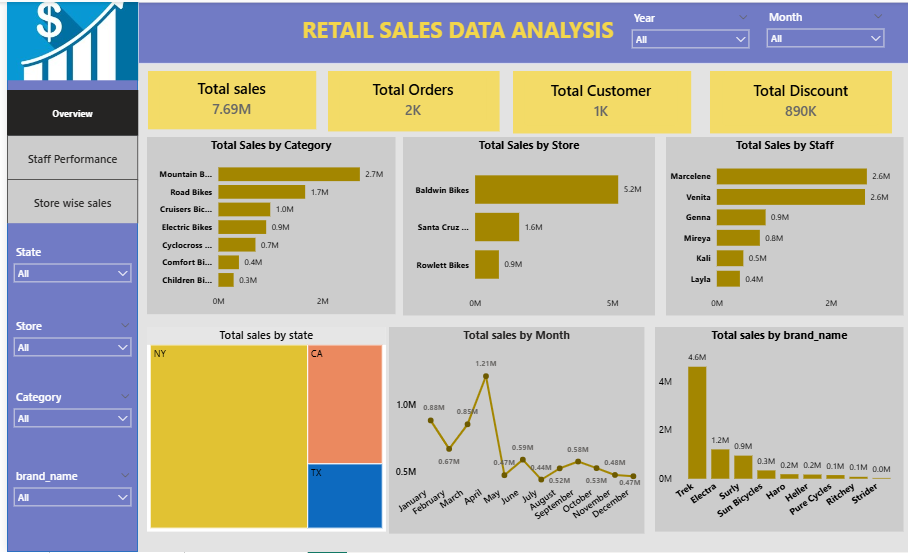

What the dashboard file says about the page in this screenshot:
{"tool":"powerbi","page":{"name":"Overview","canvas":[1318,801],"ordinal":0},"visuals":[{"type":"shape","box":[0,0,190.6,801],"z":0},{"type":"shape","box":[190.6,0,1127.8,89.7],"z":0,"group":"g1"},{"type":"shape","box":[205.5,100.9,245.1,84.9],"z":0,"group":"g2"},{"type":"shape","box":[466.9,100.9,249.9,88.1],"z":0,"group":"g5"},{"type":"shape","box":[737.2,100.9,259.5,91.3],"z":0,"group":"g3"},{"type":"shape","box":[1024.3,100.9,265.2,90.9],"z":0,"group":"g4"},{"type":"group","id":"g1","title":"Group 1","box":[190.6,0,1127.8,89.7],"z":1000},{"type":"textbox","box":[364.5,12.8,585.4,65.9],"z":1000,"group":"g1"},{"type":"cardVisual","fields":{"Data":["public brands.Total sales"]},"box":[217.1,100.9,220.3,78.9],"z":1000,"group":"g2"},{"type":"cardVisual","fields":{"Data":["public brands.Total Orders"]},"box":[478.7,100.9,224.6,81.9],"z":1000,"group":"g5"},{"type":"cardVisual","fields":{"Data":["public brands.Customer Count"]},"box":[749.5,100.9,233.2,84.9],"z":1000,"group":"g3"},{"type":"cardVisual","fields":{"Data":["public brands.Total Discount"]},"box":[1036.8,100.9,238.3,84.5],"z":1000,"group":"g4"},{"type":"group","id":"g2","title":"Group 2","box":[205.5,100.9,245.1,84.9],"z":2000},{"type":"group","id":"g3","title":"Group 2","box":[737.2,100.9,259.5,91.3],"z":3000},{"type":"group","id":"g4","title":"Group 2","box":[1024.3,100.9,265.9,91.3],"z":4000},{"type":"group","id":"g5","title":"Group 2","box":[466.9,100.9,249.9,88.1],"z":5000},{"type":"barChart","title":"Total Sales by Category","fields":{"Y":["public brands.Total sales"],"Category":["public categories.category_name"]},"box":[203.5,197,362.1,257.9],"z":6000},{"type":"barChart","title":"Total Sales by Store","fields":{"Y":["public brands.Total sales"],"Category":["public stores.store_name"]},"box":[576.7,197,366.9,259.5],"z":7000},{"type":"barChart","title":"Total Sales by Staff","fields":{"Y":["public brands.Total sales"],"Category":["public staffs.first_name"]},"box":[959.6,197,346,259.5],"z":8000},{"type":"treemap","fields":{"Values":["public brands.Total sales"],"Group":["public customers.state"]},"box":[203.5,472.6,347.6,298],"z":9000},{"type":"lineChart","fields":{"Y":["public brands.Total sales"],"Category":["public orders.order_date.Variation.Date Hierarchy.Month"]},"box":[555.9,472.6,371.7,301.2],"z":10000},{"type":"clusteredColumnChart","fields":{"Category":["public brands.brand_name"],"Y":["public brands.Total sales"]},"box":[943.6,472.6,362.1,298],"z":11000},{"type":"slicer","fields":{"Values":["public orders.order_date.Variation.Date Hierarchy.Year"]},"box":[900.1,7.4,191.4,77.3],"z":12000},{"type":"slicer","fields":{"Values":["public orders.order_date.Variation.Date Hierarchy.Month"]},"box":[1097.1,5.5,191.4,79.2],"z":13000},{"type":"slicer","fields":{"Values":["public customers.state"]},"box":[0,347.9,191.4,79.2],"z":14000},{"type":"slicer","fields":{"Values":["public stores.store_name"]},"box":[0,456.5,191.4,79.2],"z":15000},{"type":"slicer","fields":{"Values":["public categories.category_name"]},"box":[0,559.6,191.4,79.2],"z":16000},{"type":"slicer","fields":{"Values":["public brands.brand_name"]},"box":[0,673.7,191.4,79.2],"z":17000},{"type":"image","box":[0,0,191.4,114.1],"z":18000},{"type":"pageNavigator","box":[0,128.9,191.4,197],"z":19000}]}

Visuals, with their boxes on the page's 1318x801 design canvas (x1, y1, x2, y2). These are canvas units, not pixel positions in the 908x553 screenshot, which may show the page scaled, cropped or inside an application window:
shape: {"x1": 0, "y1": 0, "x2": 191, "y2": 801}
shape: {"x1": 191, "y1": 0, "x2": 1318, "y2": 90}
shape: {"x1": 206, "y1": 101, "x2": 451, "y2": 186}
shape: {"x1": 467, "y1": 101, "x2": 717, "y2": 189}
shape: {"x1": 737, "y1": 101, "x2": 997, "y2": 192}
shape: {"x1": 1024, "y1": 101, "x2": 1290, "y2": 192}
"Group 1" group: {"x1": 191, "y1": 0, "x2": 1318, "y2": 90}
textbox: {"x1": 364, "y1": 13, "x2": 950, "y2": 79}
cardVisual - public brands.Total sales: {"x1": 217, "y1": 101, "x2": 437, "y2": 180}
cardVisual - public brands.Total Orders: {"x1": 479, "y1": 101, "x2": 703, "y2": 183}
cardVisual - public brands.Customer Count: {"x1": 750, "y1": 101, "x2": 983, "y2": 186}
cardVisual - public brands.Total Discount: {"x1": 1037, "y1": 101, "x2": 1275, "y2": 185}
"Group 2" group: {"x1": 206, "y1": 101, "x2": 451, "y2": 186}
"Group 2" group: {"x1": 737, "y1": 101, "x2": 997, "y2": 192}
"Group 2" group: {"x1": 1024, "y1": 101, "x2": 1290, "y2": 192}
"Group 2" group: {"x1": 467, "y1": 101, "x2": 717, "y2": 189}
"Total Sales by Category" barChart: {"x1": 204, "y1": 197, "x2": 566, "y2": 455}
"Total Sales by Store" barChart: {"x1": 577, "y1": 197, "x2": 944, "y2": 456}
"Total Sales by Staff" barChart: {"x1": 960, "y1": 197, "x2": 1306, "y2": 456}
treemap - public brands.Total sales x public customers.state: {"x1": 204, "y1": 473, "x2": 551, "y2": 771}
lineChart - public brands.Total sales x public orders.order_date.Variation.Date Hierarchy.Month: {"x1": 556, "y1": 473, "x2": 928, "y2": 774}
clusteredColumnChart - public brands.brand_name x public brands.Total sales: {"x1": 944, "y1": 473, "x2": 1306, "y2": 771}
slicer - public orders.order_date.Variation.Date Hierarchy.Year: {"x1": 900, "y1": 7, "x2": 1092, "y2": 85}
slicer - public orders.order_date.Variation.Date Hierarchy.Month: {"x1": 1097, "y1": 6, "x2": 1288, "y2": 85}
slicer - public customers.state: {"x1": 0, "y1": 348, "x2": 191, "y2": 427}
slicer - public stores.store_name: {"x1": 0, "y1": 456, "x2": 191, "y2": 536}
slicer - public categories.category_name: {"x1": 0, "y1": 560, "x2": 191, "y2": 639}
slicer - public brands.brand_name: {"x1": 0, "y1": 674, "x2": 191, "y2": 753}
image: {"x1": 0, "y1": 0, "x2": 191, "y2": 114}
pageNavigator: {"x1": 0, "y1": 129, "x2": 191, "y2": 326}
